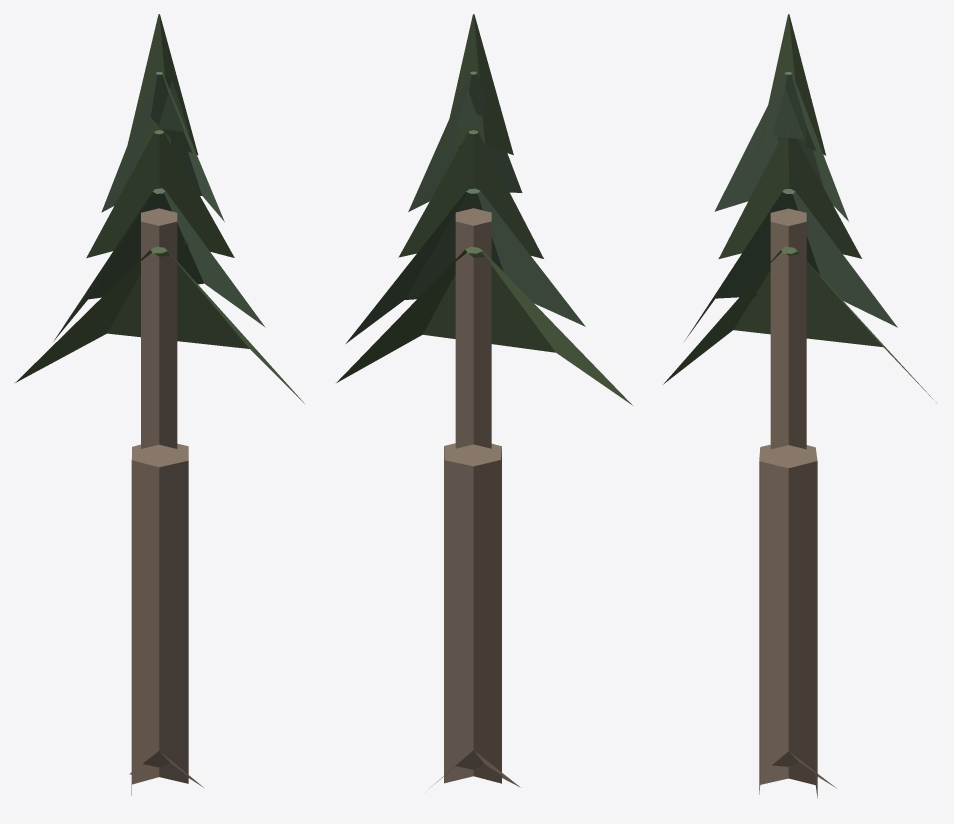
File: shu.hongpi__summer.glb
3 views of the same model, side by side, from view 1: azimuth 30°, elevation 25°; view 2: azimuth 150°, elevation 25°; view 3: azimuth 270°, elevation 25° (orthographic).
Parts seen in each view (by area): view 1: shu.hongpi__summer; view 2: shu.hongpi__summer; view 3: shu.hongpi__summer.
Part boxes in pixels (x1,y1,x2,y2): shu.hongpi__summer: (14, 14, 304, 795); shu.hongpi__summer: (336, 14, 632, 788); shu.hongpi__summer: (663, 14, 936, 798).
Bounding box in the file's own units: 6.51 × 19.56 × 6.32.
